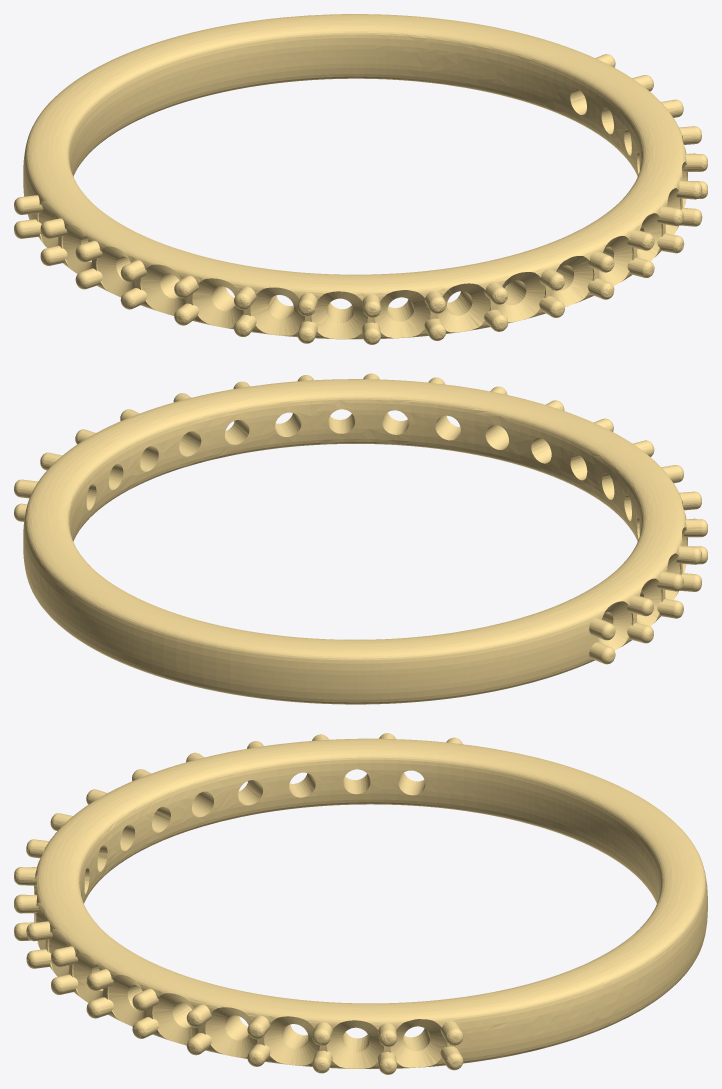
The model's file is plain-band.glb.
The picture shows the model from 3 angles, top to bottom: view 1: azimuth 30°, elevation 25°; view 2: azimuth 150°, elevation 25°; view 3: azimuth 270°, elevation 25°; orthographic projection.
Visible parts, largest first — view 1: Metal Yellow Gold; view 2: Metal Yellow Gold; view 3: Metal Yellow Gold.
Part boxes in pixels (left/top/right/bottom): Metal Yellow Gold: left=14, top=14, right=707, bottom=344; Metal Yellow Gold: left=14, top=373, right=707, bottom=704; Metal Yellow Gold: left=14, top=733, right=707, bottom=1074.
Bounding box in the file's own units: 23.5 × 2 × 22.81.
